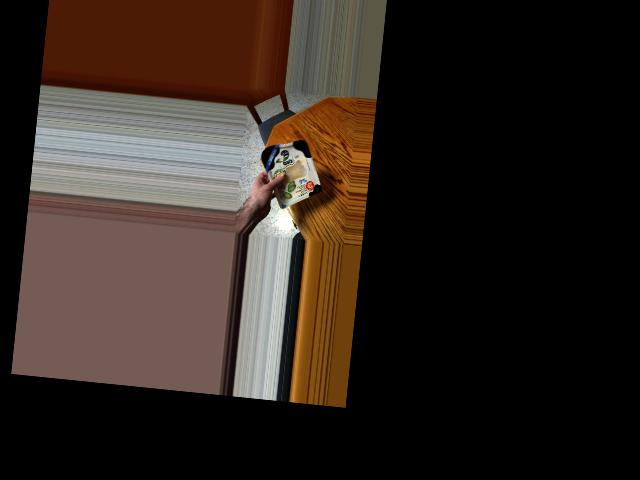cheese: (253, 135, 323, 205)
